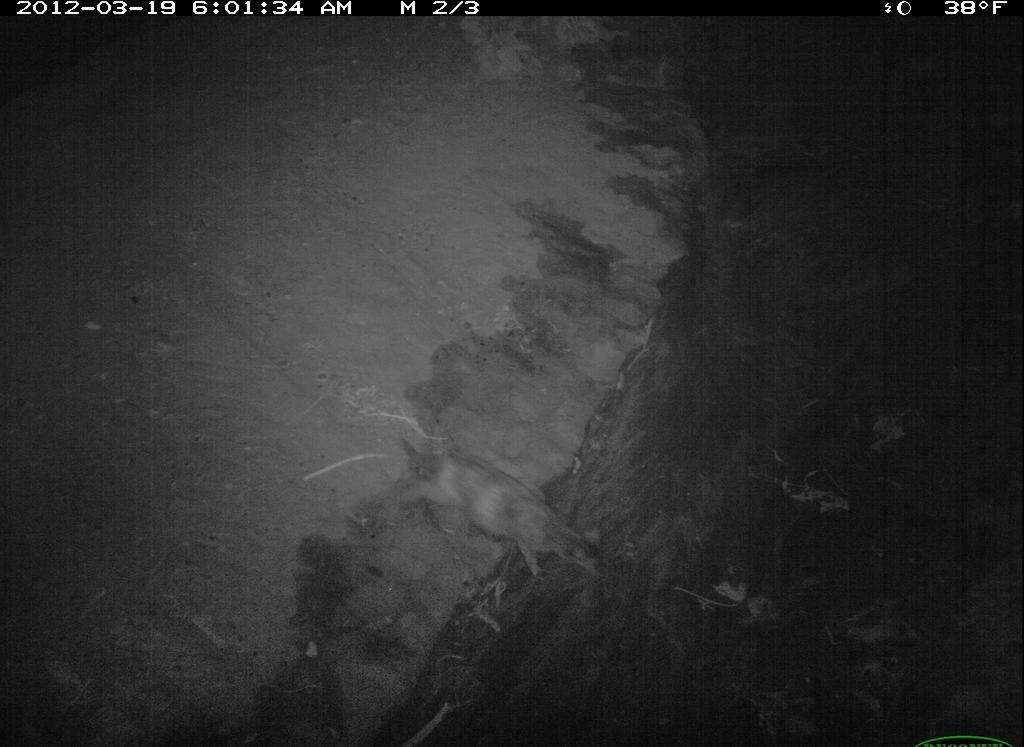cat: (383, 436, 596, 584)
